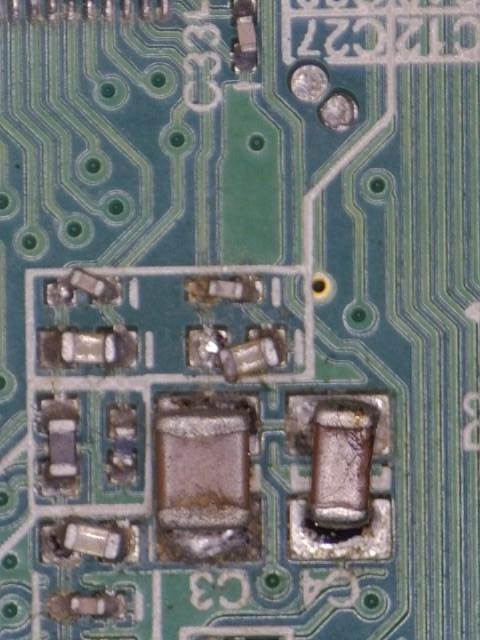pcb_defect: (187, 327, 287, 384), (40, 522, 141, 565), (46, 266, 123, 307)
